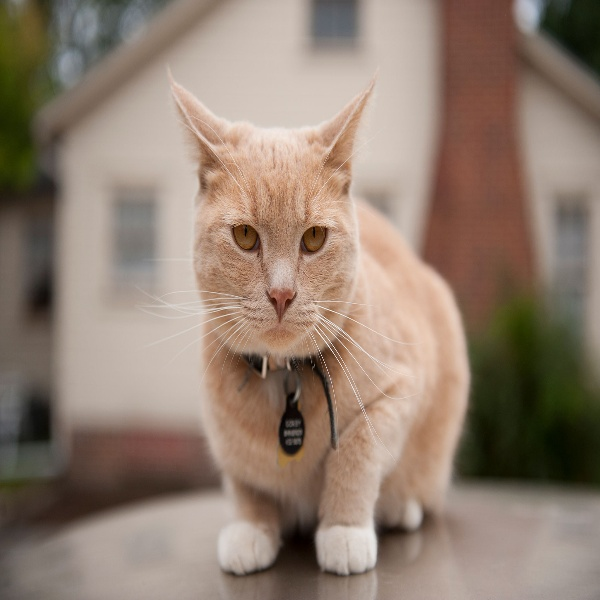cat: (147, 67, 473, 576)
